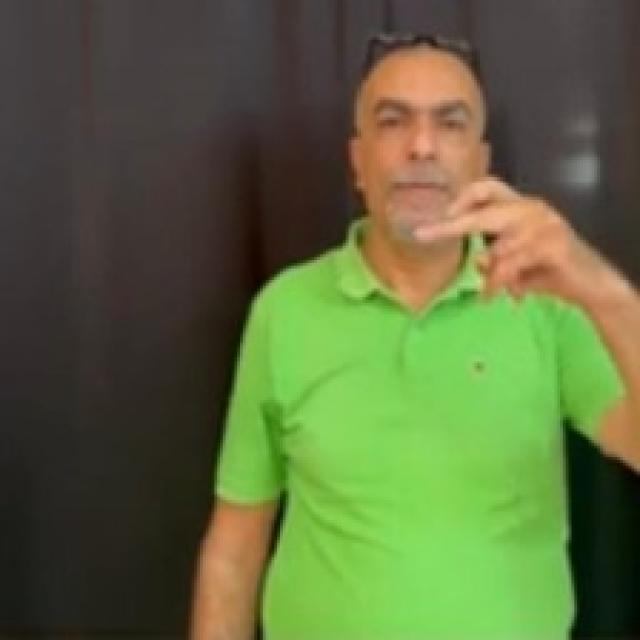sunday: (409, 170, 576, 308)
